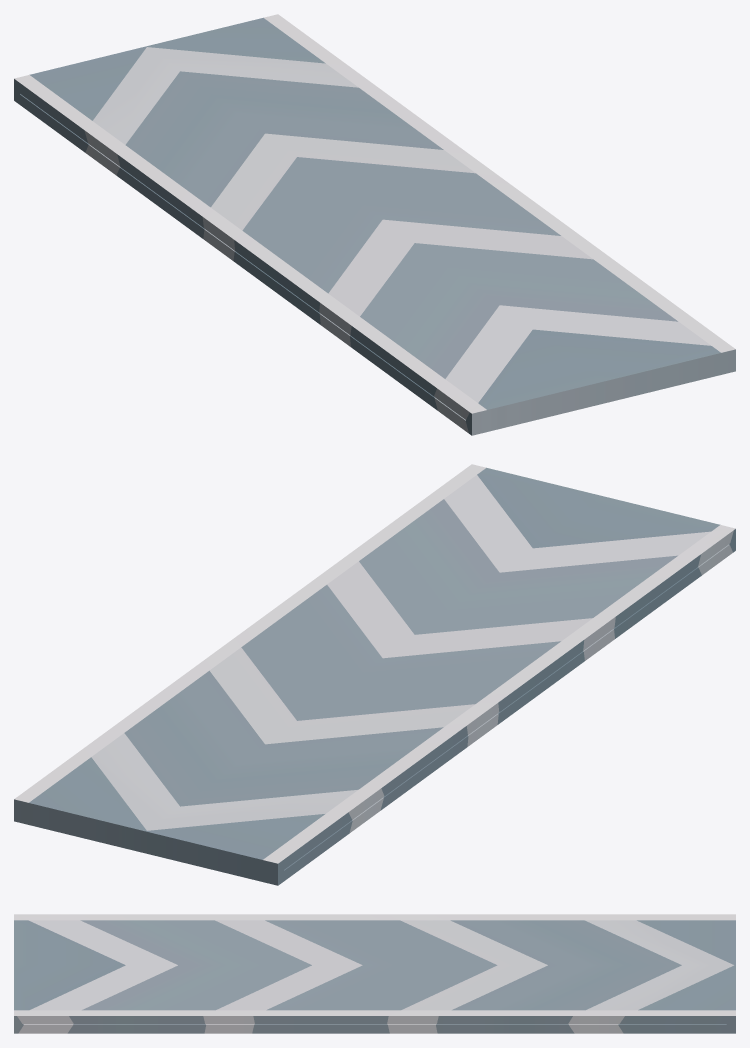
Rendered from mainway (3).fbx.
The picture shows the model from 3 angles, top to bottom: view 1: azimuth 30°, elevation 25°; view 2: azimuth 150°, elevation 25°; view 3: azimuth 270°, elevation 25°; orthographic projection. The views are drawn at different scales.
Parts seen in each view (by area): view 1: platform arrow way; view 2: platform arrow way; view 3: platform arrow way.
Part boxes in pixels (x1=…): platform arrow way: x1=14, y1=14, x2=735, y2=435; platform arrow way: x1=14, y1=464, x2=735, y2=885; platform arrow way: x1=14, y1=914, x2=735, y2=1033.
Size of the model in its own units: 984 by 78.58 by 2955.
